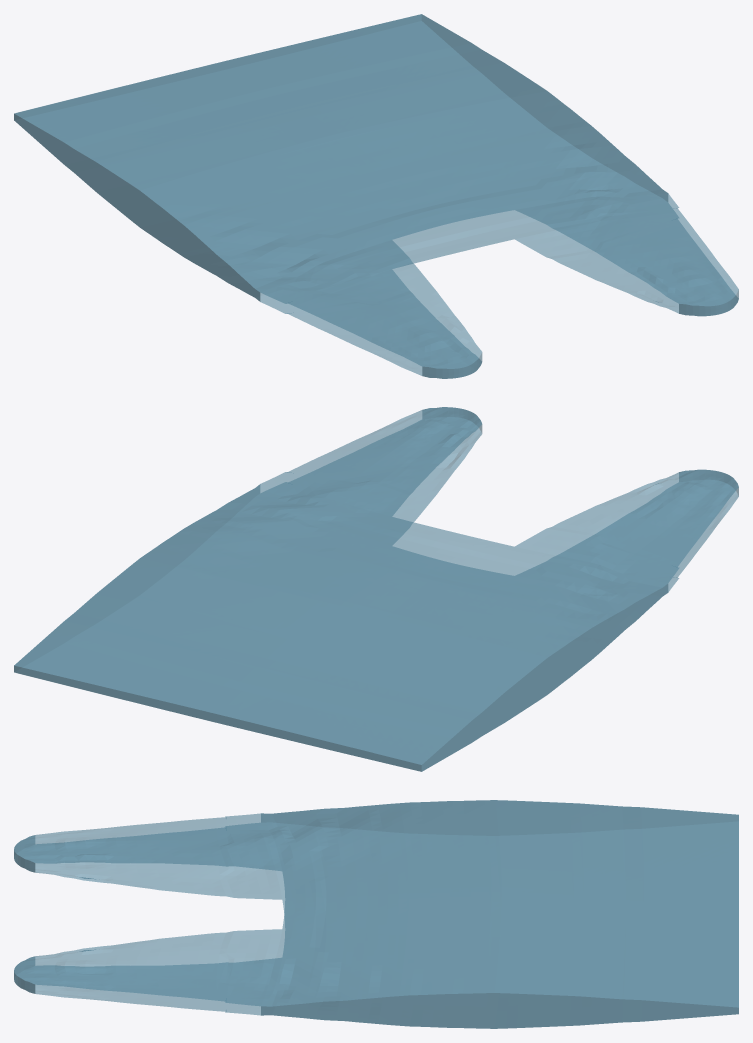
The model's file is supermarket_plastic_bag_open_carry_v5_tri.obj.
The picture shows the model from 3 angles, top to bottom: view 1: azimuth 30°, elevation 25°; view 2: azimuth 150°, elevation 25°; view 3: azimuth 270°, elevation 25°; orthographic projection. The views are drawn at different scales.
Parts seen in each view (by area): view 1: back_body, front_body, front_left_handle, back_right_handle, front_right_handle, back_left_handle, left_side_seam, right_side_seam, bottom_seam, left_handle_top_seam, right_handle_top_seam; view 2: front_body, back_body, back_right_handle, front_left_handle, back_left_handle, front_right_handle, left_side_seam, right_side_seam, bottom_seam; view 3: front_body, back_body, front_right_handle, back_left_handle, right_side_seam, left_side_seam, front_left_handle, back_right_handle, left_handle_top_seam, right_handle_top_seam.
Boxes of the visible parts, x1=… form: back_body: x1=15, y1=21, x2=667, y2=301; front_body: x1=14, y1=14, x2=667, y2=292; front_left_handle: x1=261, y1=240, x2=481, y2=368; back_right_handle: x1=515, y1=203, x2=738, y2=315; front_right_handle: x1=515, y1=193, x2=738, y2=306; back_left_handle: x1=261, y1=269, x2=481, y2=378; left_side_seam: x1=14, y1=114, x2=260, y2=301; right_side_seam: x1=422, y1=15, x2=667, y2=201; bottom_seam: x1=14, y1=14, x2=421, y2=119; left_handle_top_seam: x1=422, y1=353, x2=482, y2=378; right_handle_top_seam: x1=679, y1=290, x2=738, y2=316; front_body: x1=14, y1=484, x2=667, y2=764; back_body: x1=15, y1=494, x2=666, y2=771; back_right_handle: x1=261, y1=417, x2=481, y2=545; front_left_handle: x1=515, y1=469, x2=738, y2=582; back_left_handle: x1=516, y1=480, x2=738, y2=592; front_right_handle: x1=261, y1=407, x2=481, y2=516; left_side_seam: x1=421, y1=584, x2=668, y2=771; right_side_seam: x1=14, y1=485, x2=259, y2=671; bottom_seam: x1=14, y1=665, x2=421, y2=771; front_body: x1=261, y1=800, x2=738, y2=1007; back_body: x1=261, y1=821, x2=738, y2=1028; front_right_handle: x1=14, y1=929, x2=281, y2=1006; back_left_handle: x1=14, y1=823, x2=281, y2=899; right_side_seam: x1=261, y1=993, x2=738, y2=1028; left_side_seam: x1=261, y1=800, x2=738, y2=835; front_left_handle: x1=14, y1=813, x2=281, y2=871; back_right_handle: x1=14, y1=958, x2=281, y2=1015; left_handle_top_seam: x1=14, y1=835, x2=35, y2=872; right_handle_top_seam: x1=14, y1=957, x2=35, y2=993.
Bounding box in the file's own units: 0.34 × 0.0378 × 0.54.
